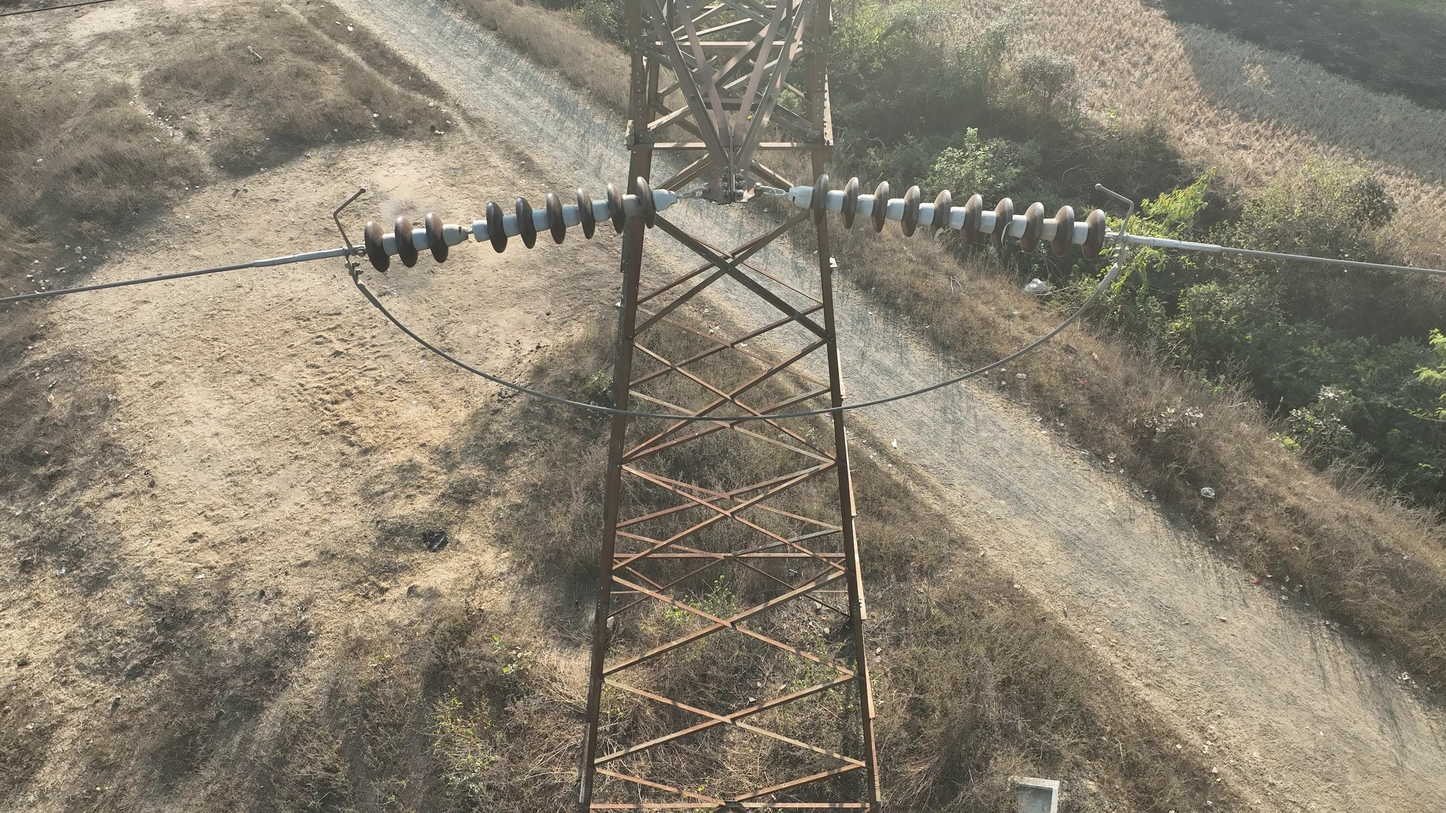broken_insulator: (991, 193, 1019, 262)
